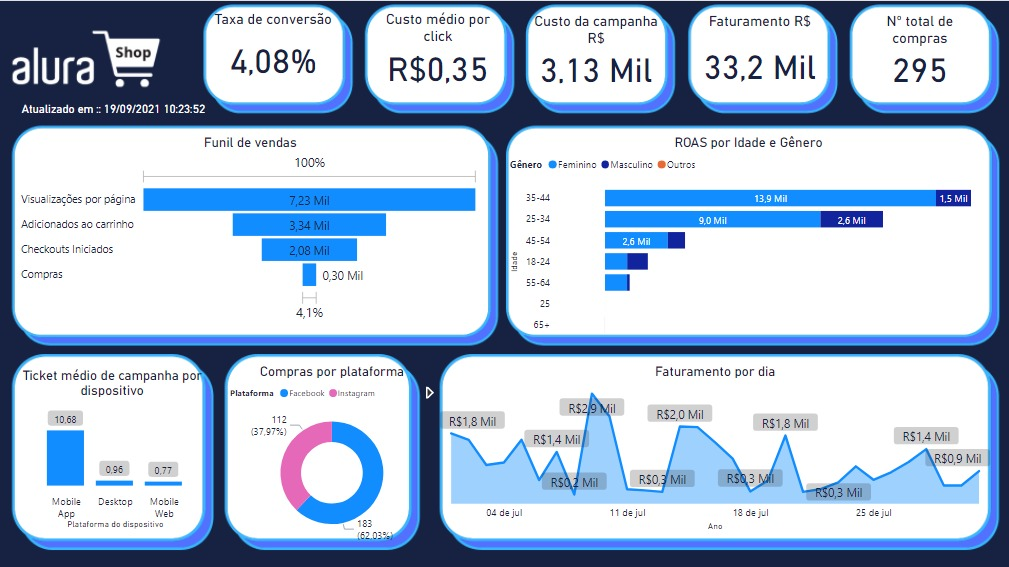

The page's visual inventory and layout, read from the dashboard file:
{"tool":"powerbi","page":{"name":"Página 1","canvas":[1280,720],"ordinal":0},"visuals":[{"type":"card","title":"Nº total de compras","fields":{"Values":["Sum(Tabela_dispositivos.Compras)"]},"box":[1085,17,159.1,93.7],"z":0},{"type":"card","title":"Faturamento R$","fields":{"Values":["Sum(Tabela_dispositivos.Valor de conversão de compras)"]},"box":[870.5,17,181.8,106.5],"z":1000},{"type":"card","title":"Custo médio por click","fields":{"Values":["Tabela_dispositivos.Custo médio por click"]},"box":[468.6,14.2,171.8,96.6],"z":2000},{"type":"areaChart","title":"Faturamento por dia","fields":{"Y":["Sum(Tabela_idade_e_genero.Valor de conversão de compras)"],"Category":["Tabela_idade_e_genero.Dia.Variation.Hierarquia de datas.Ano","Tabela_idade_e_genero.Dia.Variation.Hierarquia de datas.Trimestre","Tabela_idade_e_genero.Dia.Variation.Hierarquia de datas.Mês","Tabela_idade_e_genero.Dia.Variation.Hierarquia de datas.Dia"]},"box":[542.5,459.4,723.9,217],"z":3000},{"type":"columnChart","title":"Ticket médio de campanha por dispositivo","fields":{"Category":["Tabela_dispositivos.Plataforma do dispositivo"],"Y":["Avg(Tabela_dispositivos.Quantia gasta (BRL))"]},"box":[22,464.5,240.7,210.2],"z":4000},{"type":"card","title":"Custo da campanha R$","fields":{"Values":["Sum(Tabela_dispositivos.Quantia gasta (BRL))"]},"box":[667.5,17,174.7,93.7],"z":5000},{"type":"funnel","title":"Funil de vendas","fields":{"Y":["Sum(Tabela_idade_e_genero.Visualizações por página)","Sum(Tabela_idade_e_genero.Adicionados ao carrinho)","Sum(Tabela_idade_e_genero.Checkouts Iniciados)","Sum(Tabela_idade_e_genero.Compras)"]},"box":[22,169.5,590,242.4],"z":6000},{"type":"card","title":"Taxa de conversão","fields":{"Values":["Tabela_dispositivos.Taxa de conversão"]},"box":[262.7,14.2,164.7,96.6],"z":7000},{"type":"barChart","fields":{"Category":["Tabela_idade_e_genero.Idade"],"Y":["Tabela_idade_e_genero.ROAS"],"Series":["Tabela_idade_e_genero.Gênero"]},"box":[640.5,169,613.5,268.4],"z":8000},{"type":"donutChart","title":"Compras por plataforma","fields":{"Category":["Tabela_dispositivos.Plataforma"],"Y":["Sum(Tabela_dispositivos.Compras)"]},"box":[286.5,459.4,267.9,232.3],"z":8001},{"type":"card","fields":{"Values":["Horario da Atualização.Atualização"]},"box":[0,110.2,286.5,59.3],"z":8002}]}

Visuals, with their boxes in screenshot pixels (x1, y1, x2, y2), scaled from the page's 1280x720 canvas onto the 1009x567 screenshot:
"Nº total de compras" card: l=855, t=13, r=981, b=87
"Faturamento R$" card: l=686, t=13, r=830, b=97
"Custo médio por click" card: l=369, t=11, r=505, b=87
"Faturamento por dia" areaChart: l=428, t=362, r=998, b=533
"Ticket médio de campanha por dispositivo" columnChart: l=17, t=366, r=207, b=531
"Custo da campanha R$" card: l=526, t=13, r=664, b=87
"Funil de vendas" funnel: l=17, t=133, r=482, b=324
"Taxa de conversão" card: l=207, t=11, r=337, b=87
barChart - Tabela_idade_e_genero.Idade x Tabela_idade_e_genero.ROAS: l=505, t=133, r=989, b=344
"Compras por plataforma" donutChart: l=226, t=362, r=437, b=545
card - Horario da Atualização.Atualização: l=0, t=87, r=226, b=133
